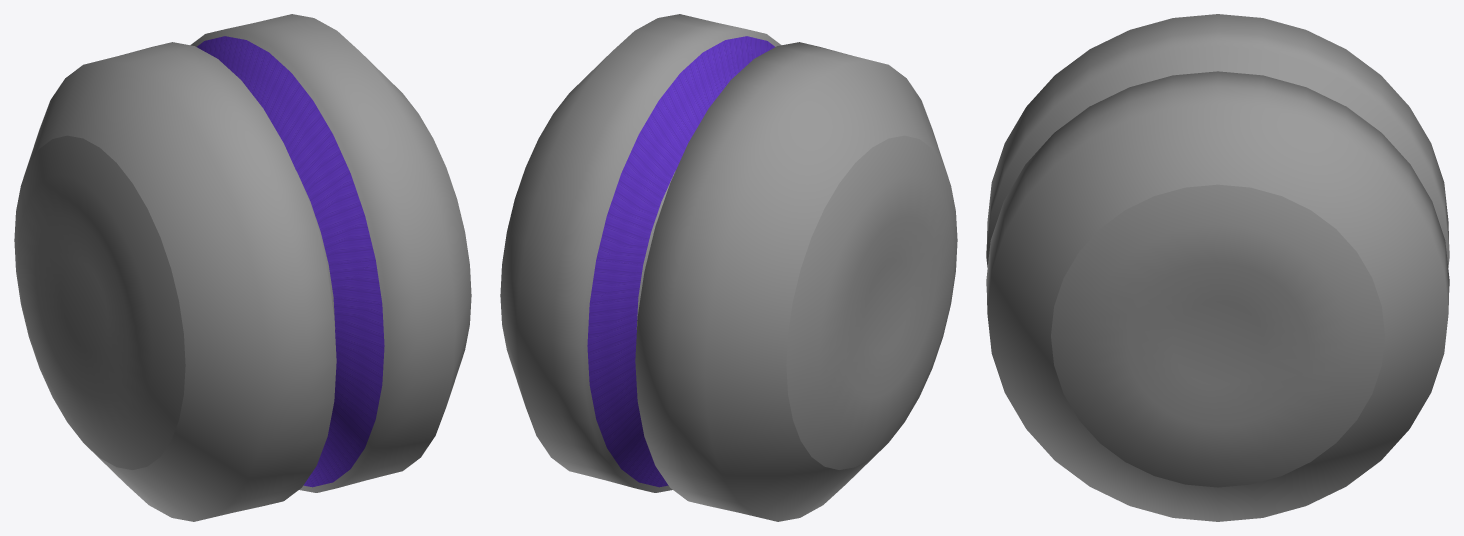
File: yoyo.FBX
3 renders of one model, left to right at view 1: azimuth 30°, elevation 25°; view 2: azimuth 150°, elevation 25°; view 3: azimuth 270°, elevation 25°, orthographic. The views are drawn at different scales.
Visible parts, largest first — view 1: Object002, yoyo; view 2: Object002, yoyo; view 3: Object002.
Part boxes in pixels (bbox=[...]): Object002: bbox=[14, 14, 471, 521]; yoyo: bbox=[197, 36, 384, 487]; Object002: bbox=[500, 14, 957, 521]; yoyo: bbox=[587, 36, 774, 487]; Object002: bbox=[986, 14, 1449, 521].
Size of the model in its own units: 31.64 by 40.38 by 40.38.
3 materials, 1 textured.
